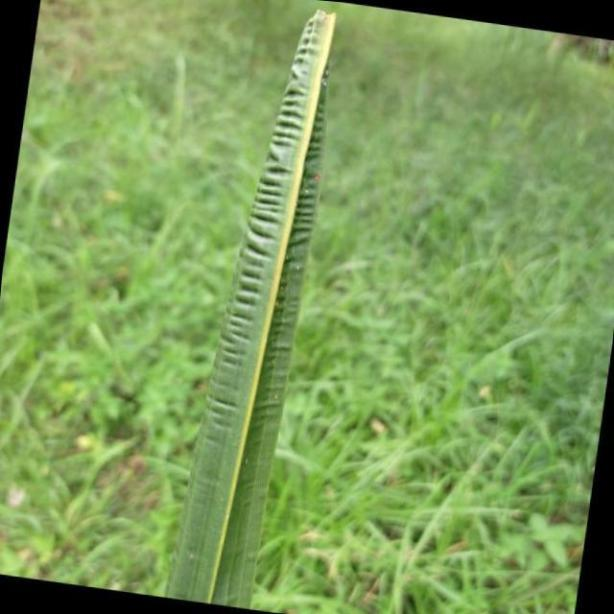Boron: (173, 6, 337, 614)
